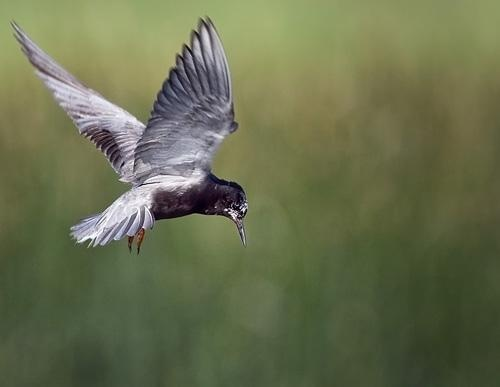bird: (8, 16, 255, 251)
